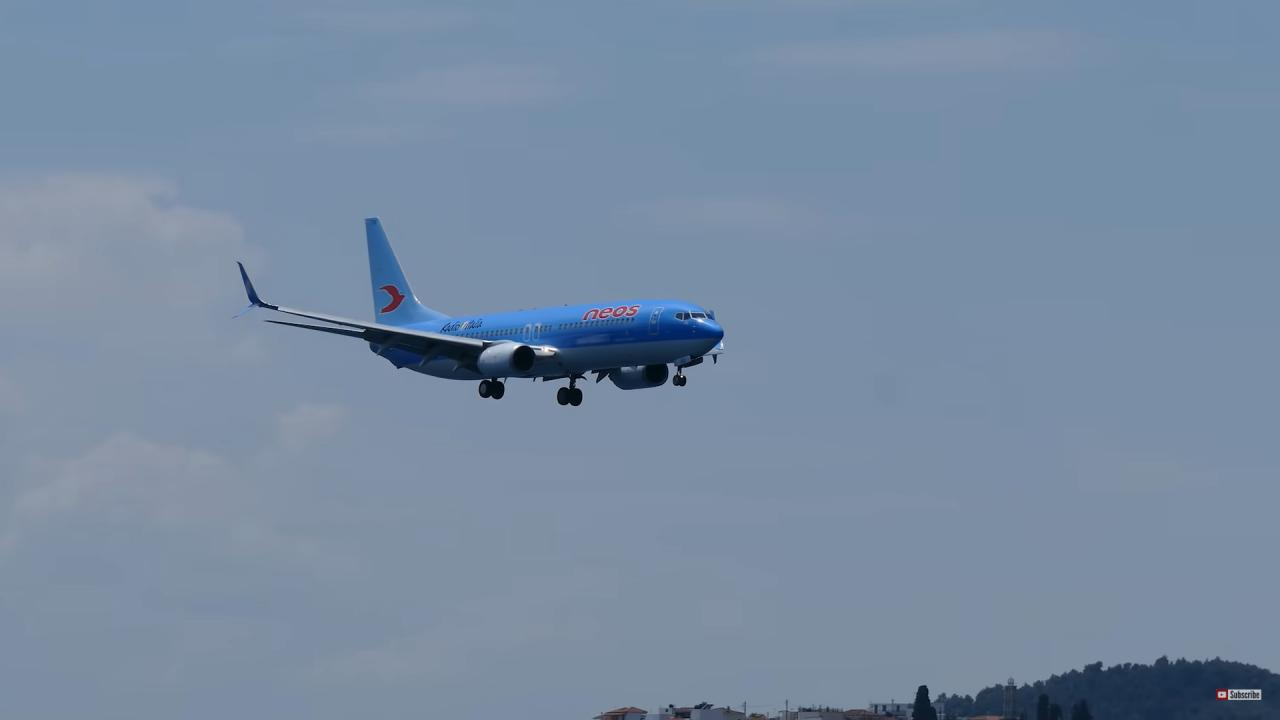Airplane: (223, 203, 738, 419)
